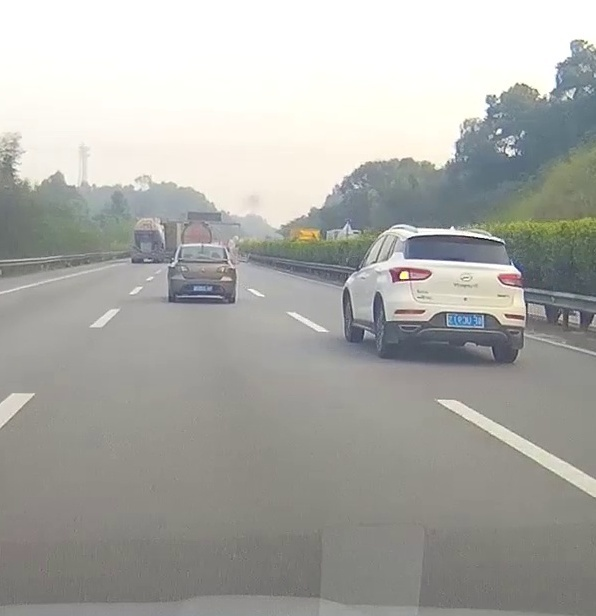L_light: (389, 267, 432, 282), (173, 265, 189, 271)
R_light: (498, 273, 523, 288), (218, 266, 234, 272)
T_light: (453, 236, 475, 240), (200, 247, 210, 249)
day-left: (385, 230, 526, 363)
day-no: (168, 245, 236, 303)
